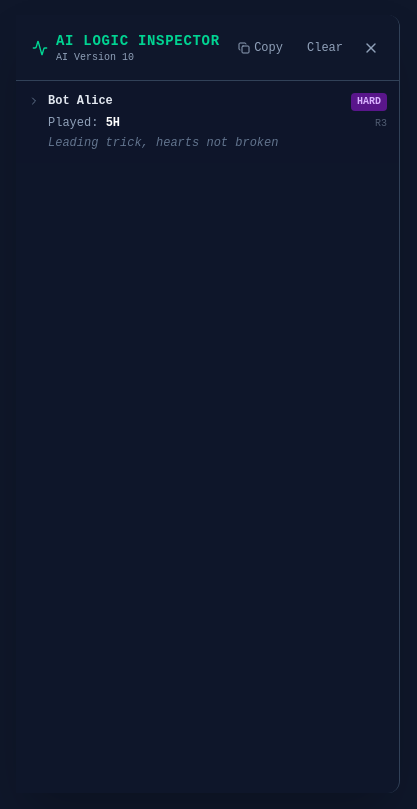
Test: AIDebugOverlay Component › Log Expansion › expands log when clicked
Click the text "Bot Alice": (80, 101) [16,81,399,163]
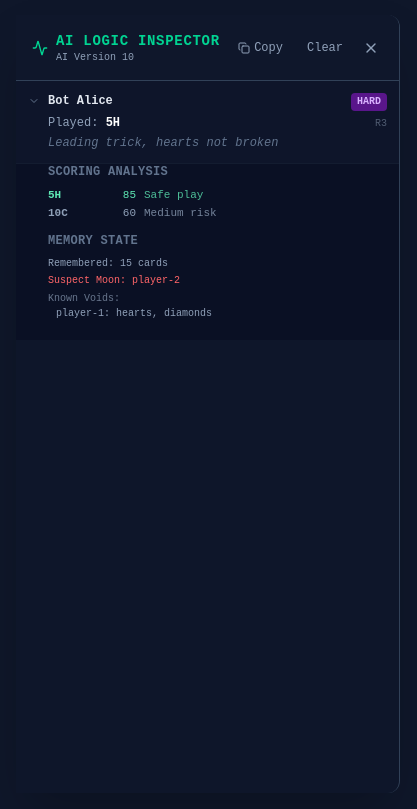
Expected: the heading "Scoring Analysis" is shown, [48,165,168,179]
